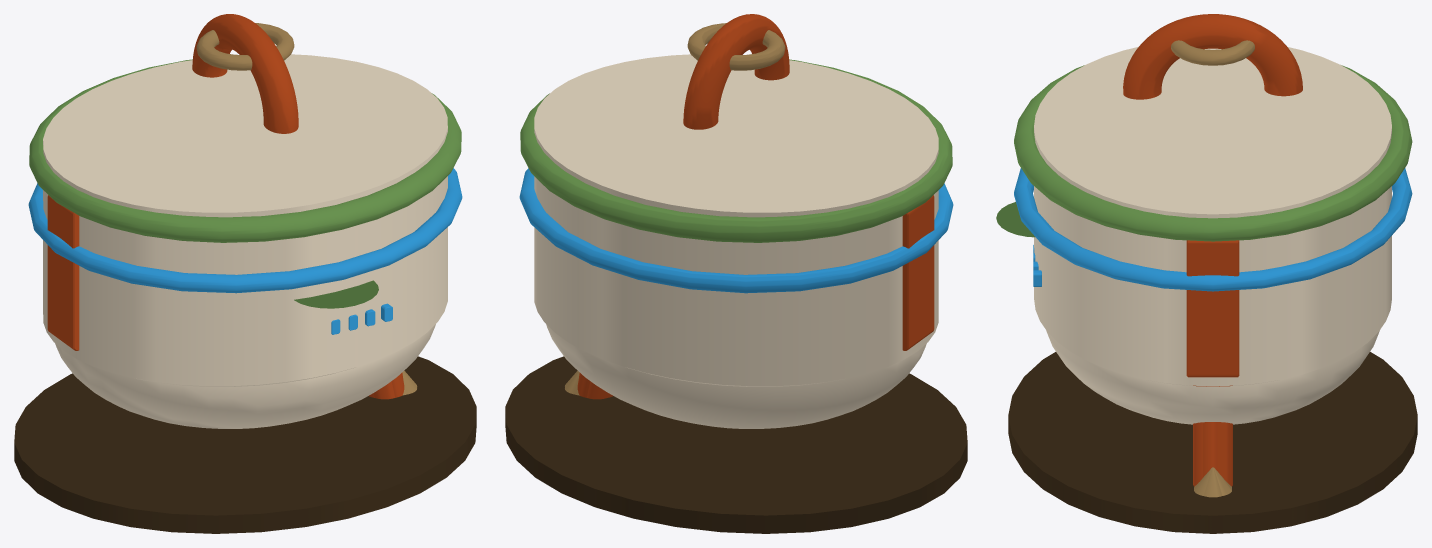
File: 0746_先秦图鉴_妇好鸮尊.glb
3 renders of one model, left to right at view 1: azimuth 30°, elevation 25°; view 2: azimuth 150°, elevation 25°; view 3: azimuth 270°, elevation 25°, orthographic.
Parts seen in each view (by area): view 1: card_0746; view 2: card_0746; view 3: card_0746.
Part boxes in pixels (x1,y1,x2,y2): card_0746: (14, 14, 476, 533); card_0746: (505, 14, 967, 533); card_0746: (996, 14, 1417, 533).
Bounding box in the file's own units: 0.9987 × 1 × 0.886.
